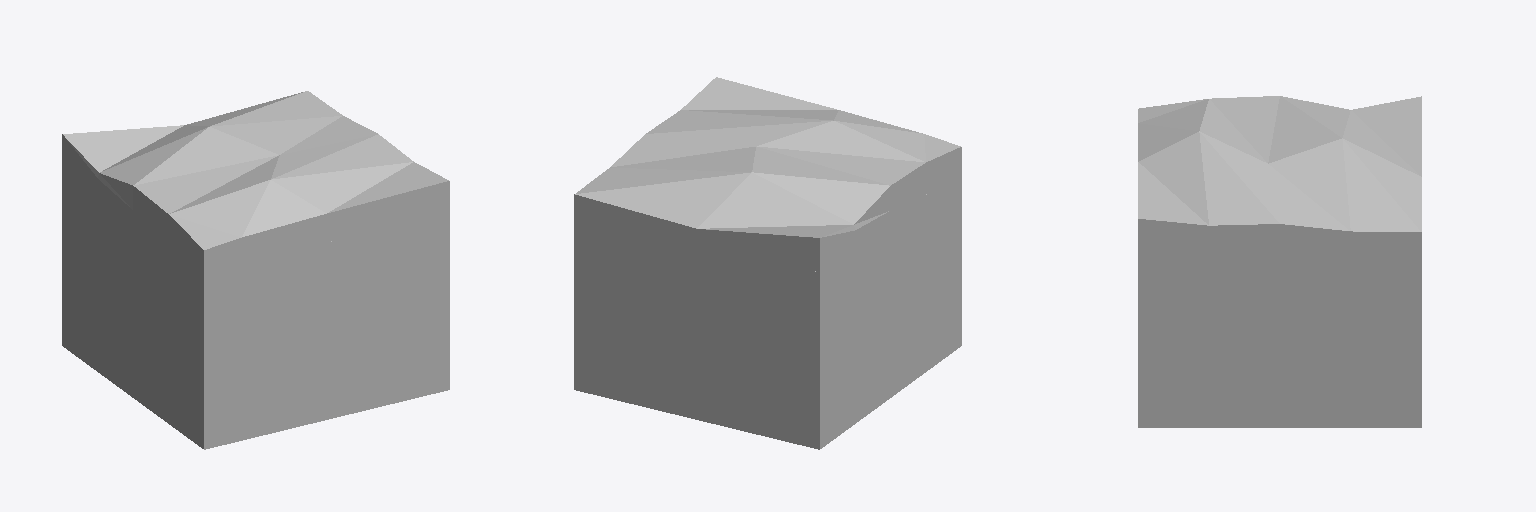
Rendered from grassP5.obj.
The picture shows the model from 3 angles: view 1: azimuth 30°, elevation 25°; view 2: azimuth 150°, elevation 25°; view 3: azimuth 270°, elevation 25°; orthographic projection.
Parts seen in each view (by area): view 1: Cube; view 2: Cube; view 3: Cube.
Part boxes in pixels (x1,y1,x2,y2): Cube: (62, 91, 449, 449); Cube: (574, 77, 961, 449); Cube: (1138, 96, 1421, 427).
Bounding box in the file's own units: 159 × 139 × 159.